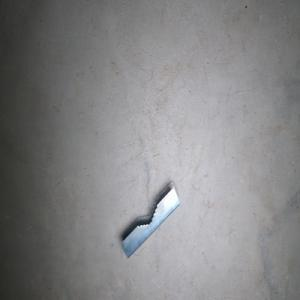ClampPart: (120, 180, 180, 260)
